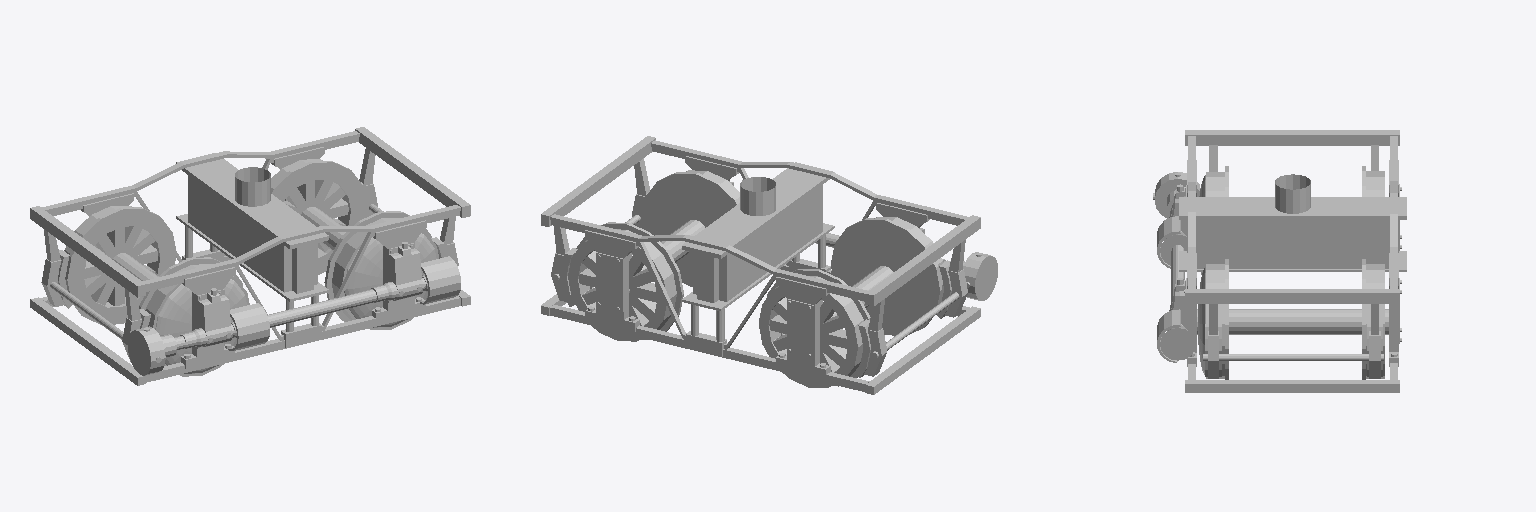
The model's file is fronttruck.obj.
The picture shows the model from 3 angles: view 1: azimuth 30°, elevation 25°; view 2: azimuth 150°, elevation 25°; view 3: azimuth 270°, elevation 25°; orthographic projection.
Visible parts, largest first — view 1: Cube.241_Cube.269, Cube.228_Cube.256, Sphere.019_Sphere.031, Cube.029_Cube.245; view 2: Cube.241_Cube.269, Cube.228_Cube.256, Sphere.019_Sphere.031, Cube.029_Cube.245; view 3: Cube.241_Cube.269, Sphere.019_Sphere.031, Cube.029_Cube.245, Cube.228_Cube.256.
Part boxes in pixels (x1,y1,x2,y2): Cube.241_Cube.269: (30,127,470,385); Cube.228_Cube.256: (64,206,249,376); Sphere.019_Sphere.031: (271,159,438,329); Cube.029_Cube.245: (128,274,427,375); Cube.241_Cube.269: (541,136,980,394); Cube.228_Cube.256: (759,217,943,387); Sphere.019_Sphere.031: (568,170,739,341); Cube.029_Cube.245: (815,233,997,300); Cube.241_Cube.269: (1157,130,1406,392); Sphere.019_Sphere.031: (1197,259,1388,379); Cube.029_Cube.245: (1153,172,1200,360); Cube.228_Cube.256: (1199,166,1384,274).
Size of the model in its own units: 2.37 by 1.02 by 1.55.